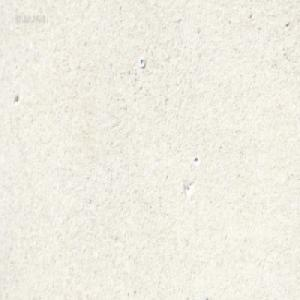Washer: (139, 56, 145, 67)
